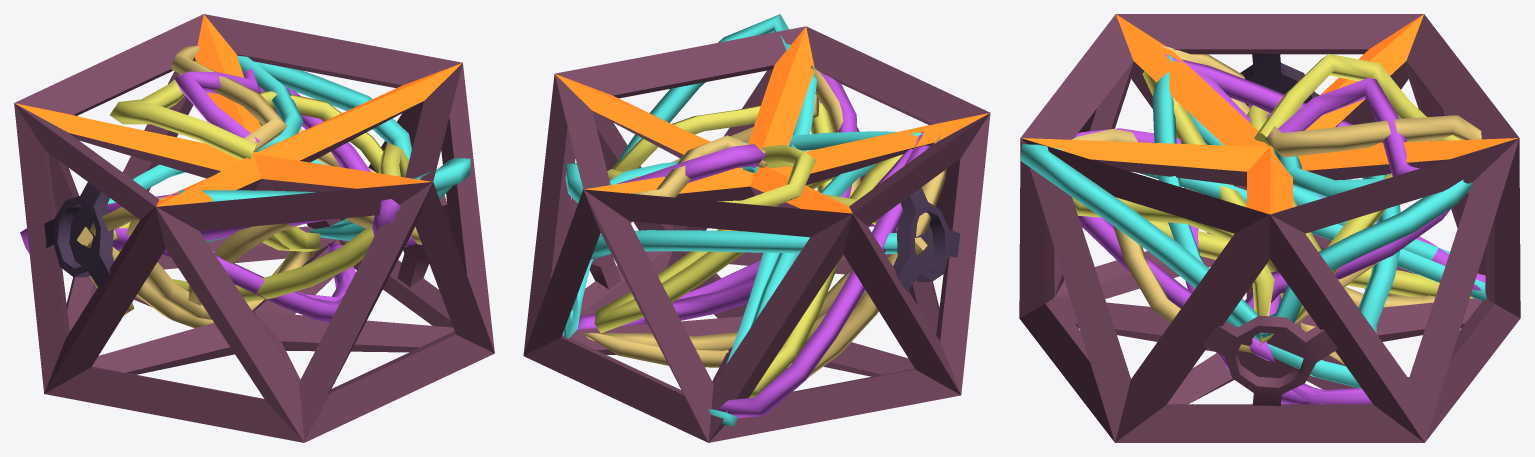
The model's file is NOT.fbx.
3 renders of one model, left to right at view 1: azimuth 30°, elevation 25°; view 2: azimuth 150°, elevation 25°; view 3: azimuth 270°, elevation 25°, orthographic. The views are drawn at different scales.
Visible parts, largest first — view 1: BezierCircle.002; view 2: BezierCircle.002; view 3: BezierCircle.002.
Part boxes in pixels (x1=…): BezierCircle.002: x1=14, y1=14, x2=494, y2=442; BezierCircle.002: x1=523, y1=14, x2=990, y2=442; BezierCircle.002: x1=1019, y1=14, x2=1520, y2=442.
Bounding box in the file's own units: 107 × 61.06 × 102.
